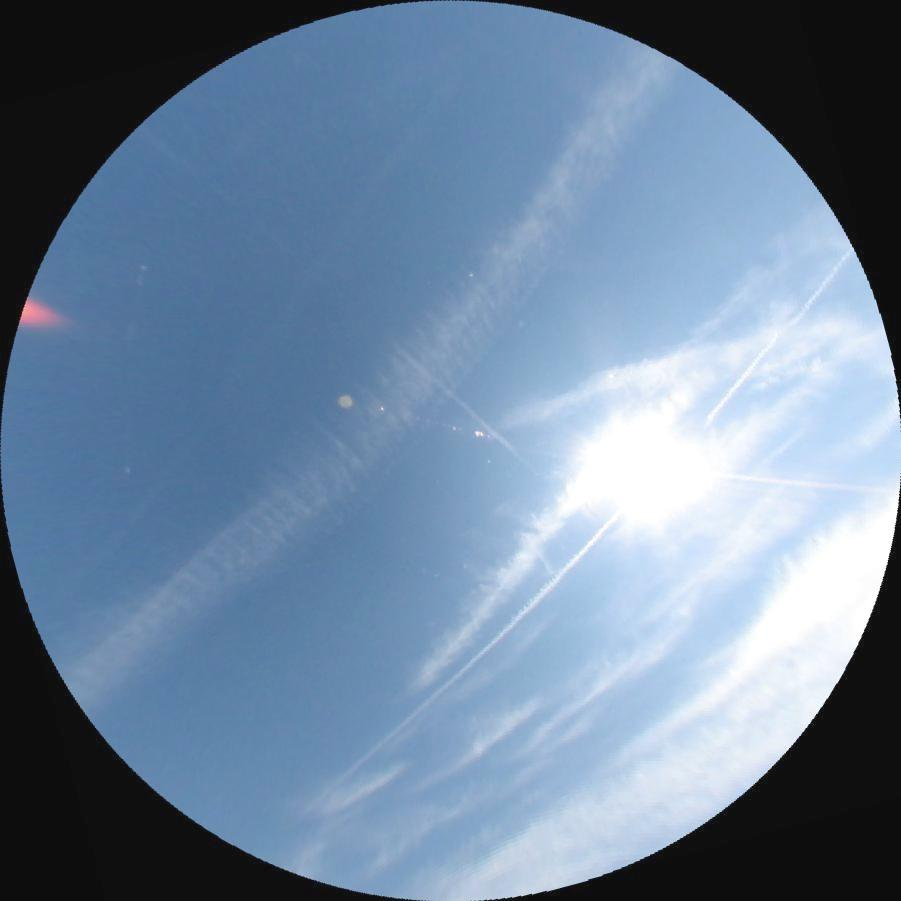contrail old: (302, 246, 869, 827), (31, 102, 436, 626), (389, 340, 526, 463)
contrail veryold: (49, 23, 721, 756), (390, 332, 727, 707), (489, 311, 892, 431)
parasite: (712, 469, 899, 492), (123, 264, 147, 342)
sun: (597, 430, 711, 498)
